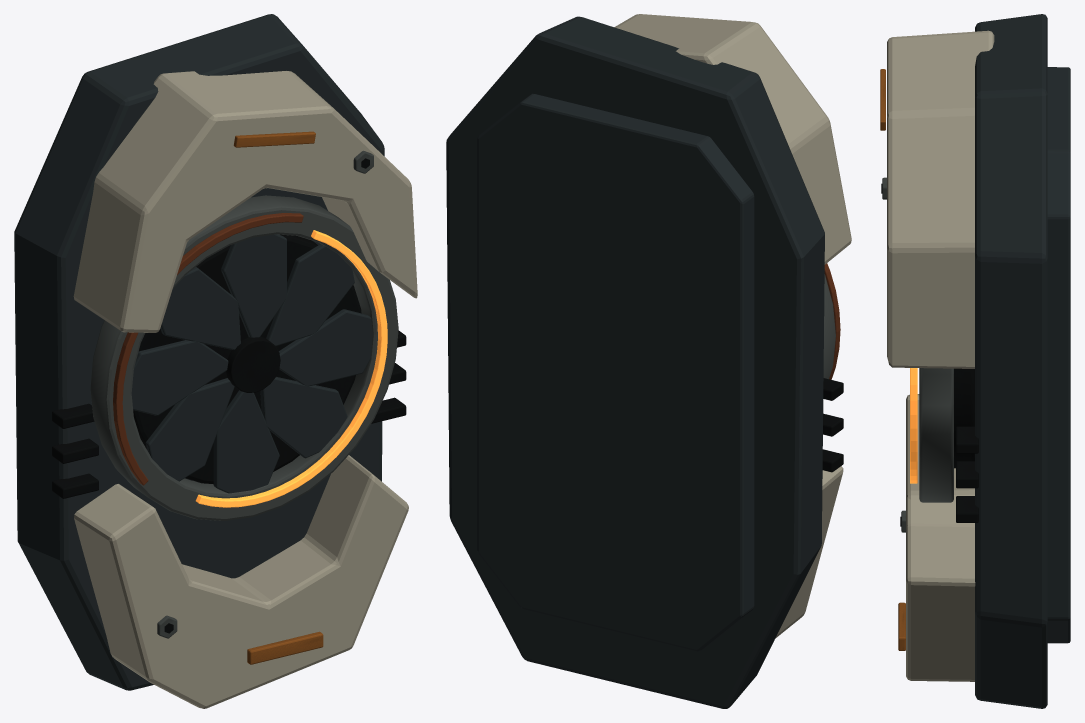
The model's file is eclipse.glb.
3 renders of one model, left to right at view 1: azimuth 30°, elevation 25°; view 2: azimuth 150°, elevation 25°; view 3: azimuth 270°, elevation 25°, orthographic. The views are drawn at different scales.
Visible parts, largest first — view 1: steel, ivory, edge, rubber, amber, copper, paint; view 2: steel, ivory, rubber, edge, copper; view 3: steel, ivory, edge, rubber, amber, paint.
Boxes of the visible parts, x1,y1,x2,y2 form: steel: [14, 14, 384, 690]; ivory: [73, 71, 417, 708]; edge: [90, 150, 398, 638]; rubber: [52, 158, 406, 633]; amber: [195, 230, 387, 507]; copper: [113, 213, 303, 485]; paint: [233, 131, 323, 664]; steel: [446, 16, 824, 708]; ivory: [614, 14, 851, 638]; rubber: [822, 378, 843, 472]; edge: [823, 274, 835, 379]; copper: [824, 263, 840, 379]; steel: [975, 14, 1070, 708]; ivory: [887, 30, 994, 681]; edge: [882, 177, 953, 532]; rubber: [881, 183, 978, 526]; amber: [910, 368, 917, 483]; paint: [880, 69, 905, 650].
Size of the model in its own units: 0.1044 by 0.1766 by 0.0498.
Materials: 7 (6 with a texture image).
